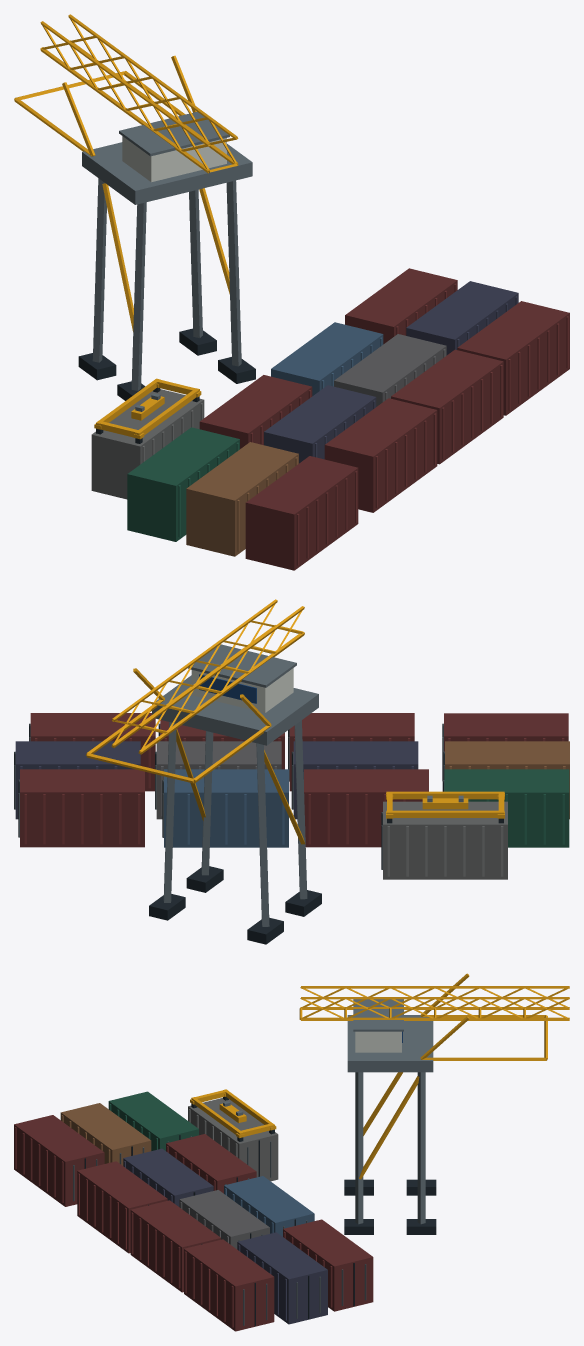
The model's file is SeaportSystem-02-ShipToShoreGantryCrane-01-20Footer-2-10.glb.
The picture shows the model from 3 angles, top to bottom: view 1: azimuth 30°, elevation 25°; view 2: azimuth 150°, elevation 25°; view 3: azimuth 270°, elevation 25°; orthographic projection. The views are drawn at different scales.
Visible parts, largest first — view 1: SeaportSystem-02-ShipToShoreGantryCrane-01-20Footer-2-10; view 2: SeaportSystem-02-ShipToShoreGantryCrane-01-20Footer-2-10; view 3: SeaportSystem-02-ShipToShoreGantryCrane-01-20Footer-2-10.
Boxes of the visible parts, bbox=[...] form: SeaportSystem-02-ShipToShoreGantryCrane-01-20Footer-2-10: bbox=[14, 14, 569, 570]; SeaportSystem-02-ShipToShoreGantryCrane-01-20Footer-2-10: bbox=[14, 599, 569, 944]; SeaportSystem-02-ShipToShoreGantryCrane-01-20Footer-2-10: bbox=[14, 973, 569, 1331].
Bounding box in the file's own units: 59.24 × 31.18 × 71.4.
